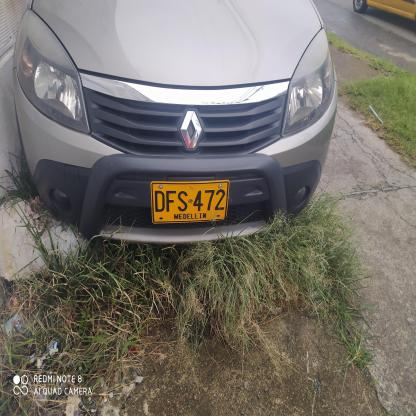placa: (147, 179, 231, 225)
